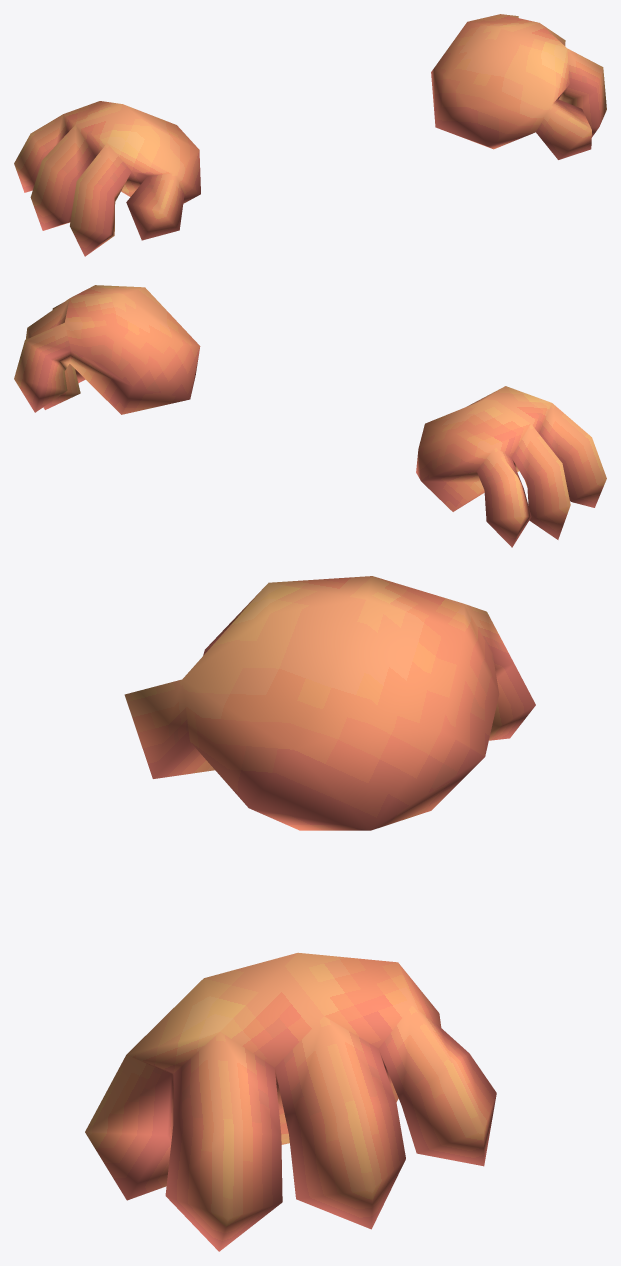
File: Hands.obj
The picture shows the model from 3 angles, top to bottom: view 1: azimuth 30°, elevation 25°; view 2: azimuth 150°, elevation 25°; view 3: azimuth 270°, elevation 25°; orthographic projection. The views are drawn at different scales.
Visible parts, largest first — view 1: Inst3D_RefRep.223_Ref; view 2: Inst3D_RefRep.223_Ref; view 3: Inst3D_RefRep.223_Ref.
Boxes of the visible parts, box(x1,y1,x2,y2) form: Inst3D_RefRep.223_Ref: box(14, 14, 606, 256); Inst3D_RefRep.223_Ref: box(14, 285, 606, 547); Inst3D_RefRep.223_Ref: box(85, 576, 535, 1251).
Size of the model in its own units: 4.03 by 0.8435 by 1.47.
